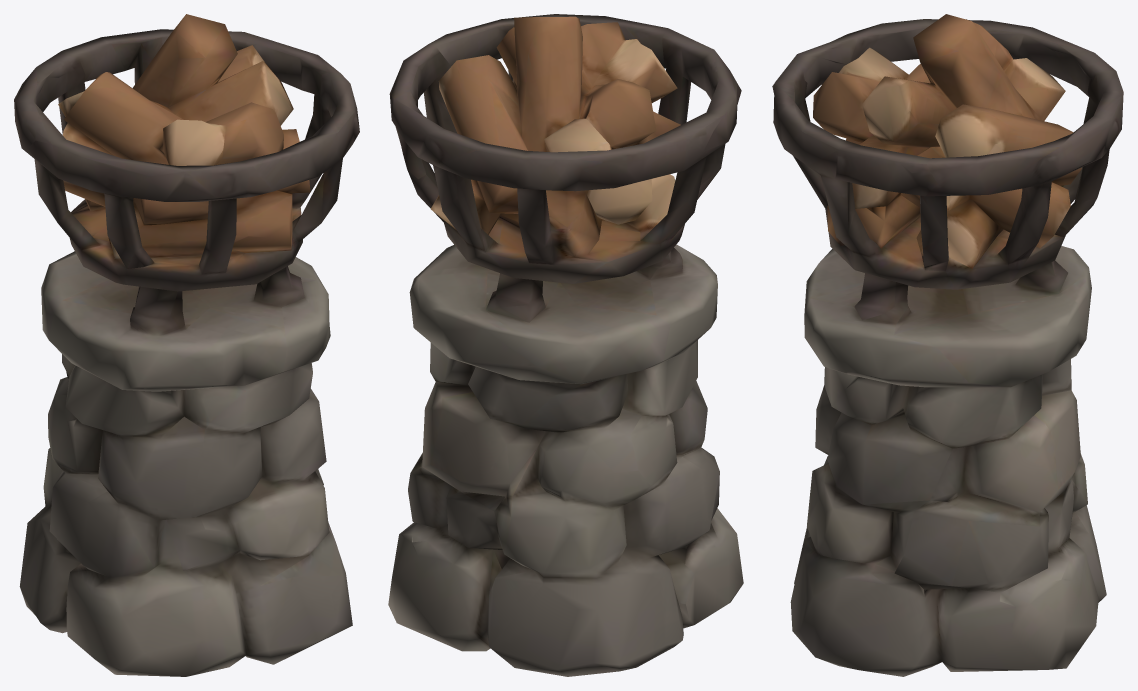
Rendered from beacon.glb.
The picture shows the model from 3 angles, left to right: view 1: azimuth 30°, elevation 25°; view 2: azimuth 150°, elevation 25°; view 3: azimuth 270°, elevation 25°; orthographic projection. The views are drawn at different scales.
Parts seen in each view (by area): view 1: tripo_node_5c09c477-68c4-4e2f-9916-48d1f5dddf3b; view 2: tripo_node_5c09c477-68c4-4e2f-9916-48d1f5dddf3b; view 3: tripo_node_5c09c477-68c4-4e2f-9916-48d1f5dddf3b.
Boxes of the visible parts, x1,y1,x2,y2 form: tripo_node_5c09c477-68c4-4e2f-9916-48d1f5dddf3b: (14, 14, 359, 676); tripo_node_5c09c477-68c4-4e2f-9916-48d1f5dddf3b: (388, 14, 743, 676); tripo_node_5c09c477-68c4-4e2f-9916-48d1f5dddf3b: (772, 14, 1123, 676).
Size of the model in its own units: 0.5368 by 1 by 0.5278.
1 material, 1 textured.
